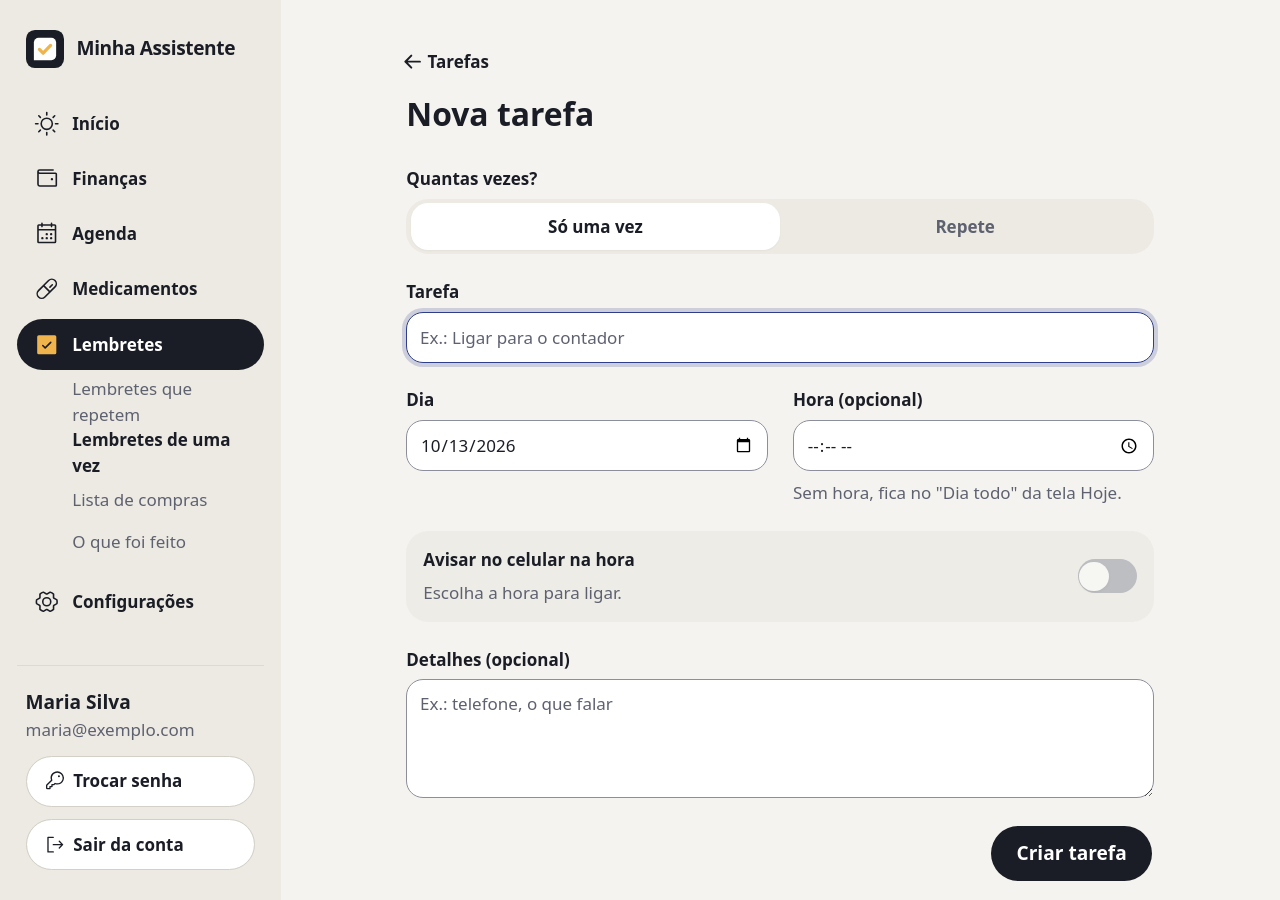
it: Tarefas avulsas › formulário: o lembrete só liga com hora; a tarefa aparece na tela Hoje e o ✓ de lá conclui
The width and height of the screenshot is (1280, 900).
Type "Ligar para o contador" into the field labelled "Tarefa" at x=780, y=337, box [406,312,1154,363]
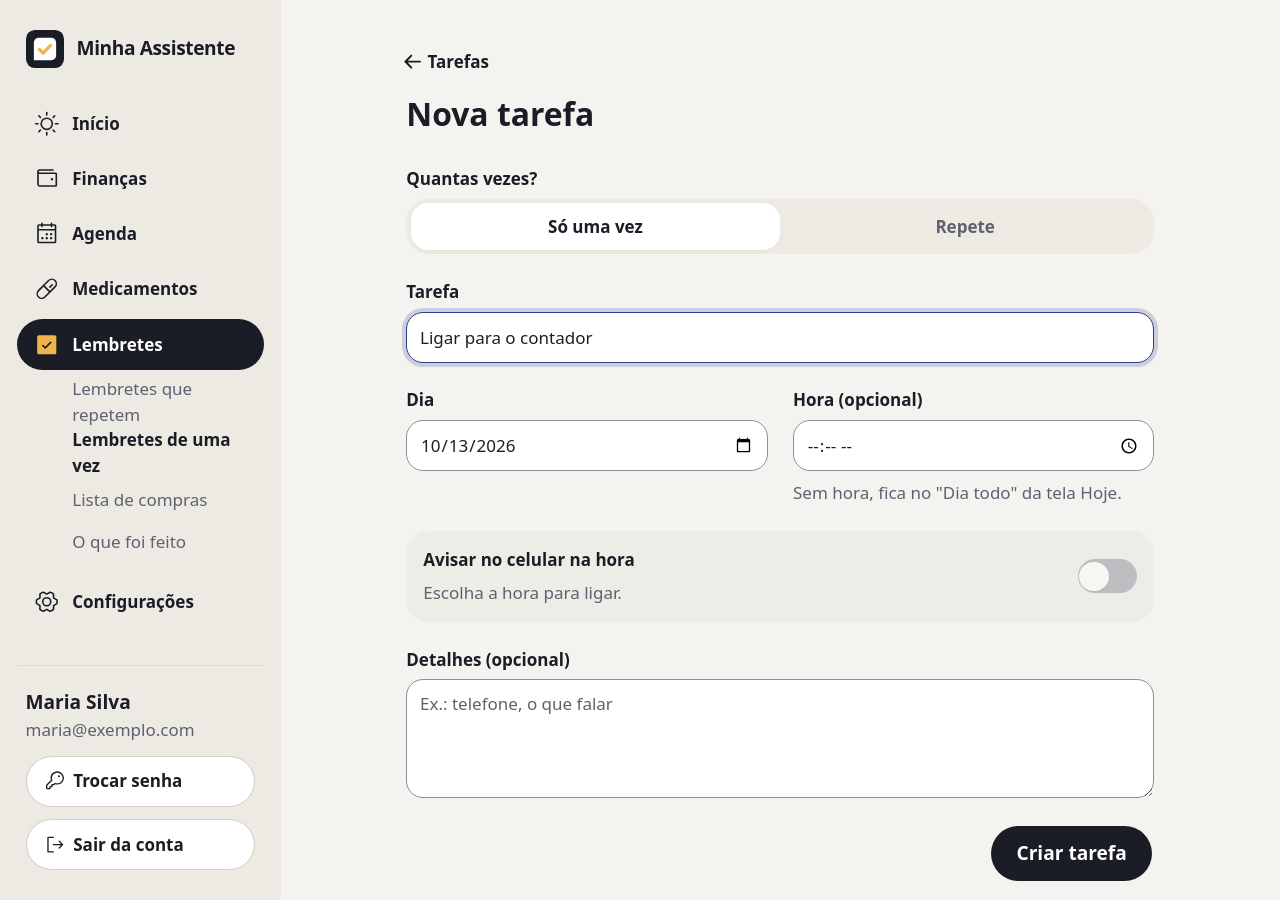
Expected: the switch named "Avisar no celular" is disabled, [1078,559,1137,593]
Type "11:30" into the time field labelled "Hora (opcional)" at x=974, y=446, box [793,420,1154,471]
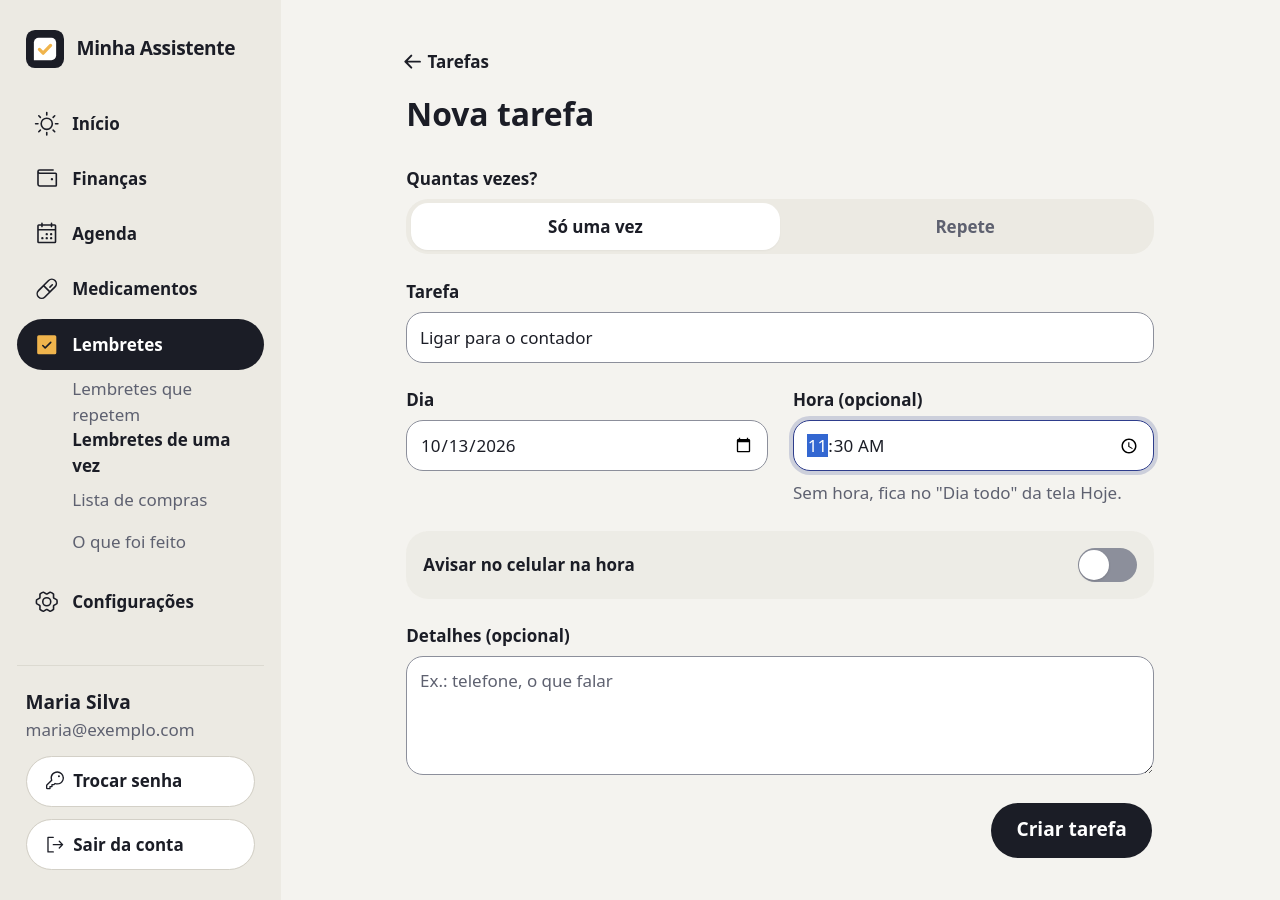
Expected: the switch named "Avisar no celular" is enabled
Click the switch named "Avisar no celular" at x=1108, y=565, box [1078,548,1137,582]
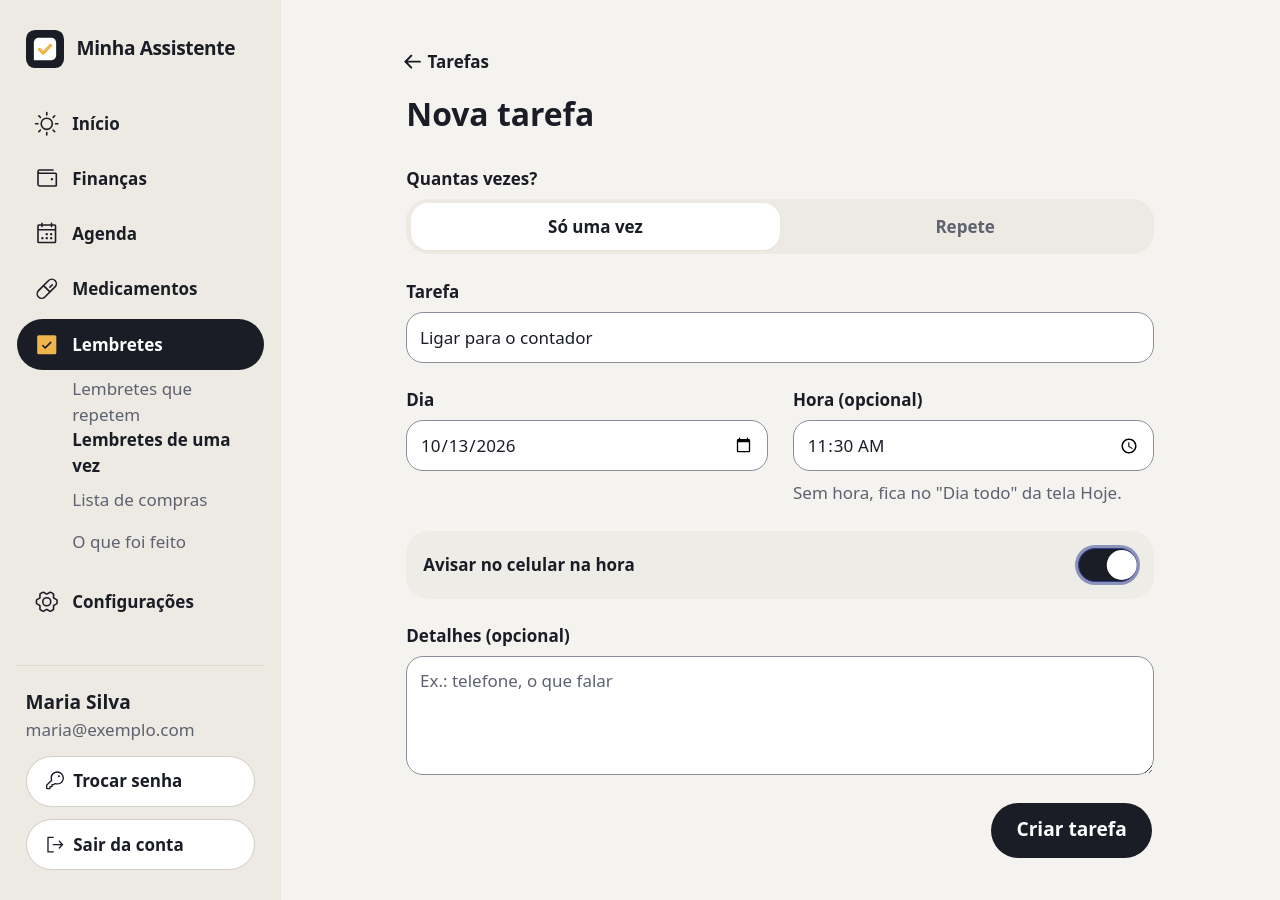
Click the button "Criar tarefa" at x=1072, y=830, box [989,801,1154,860]
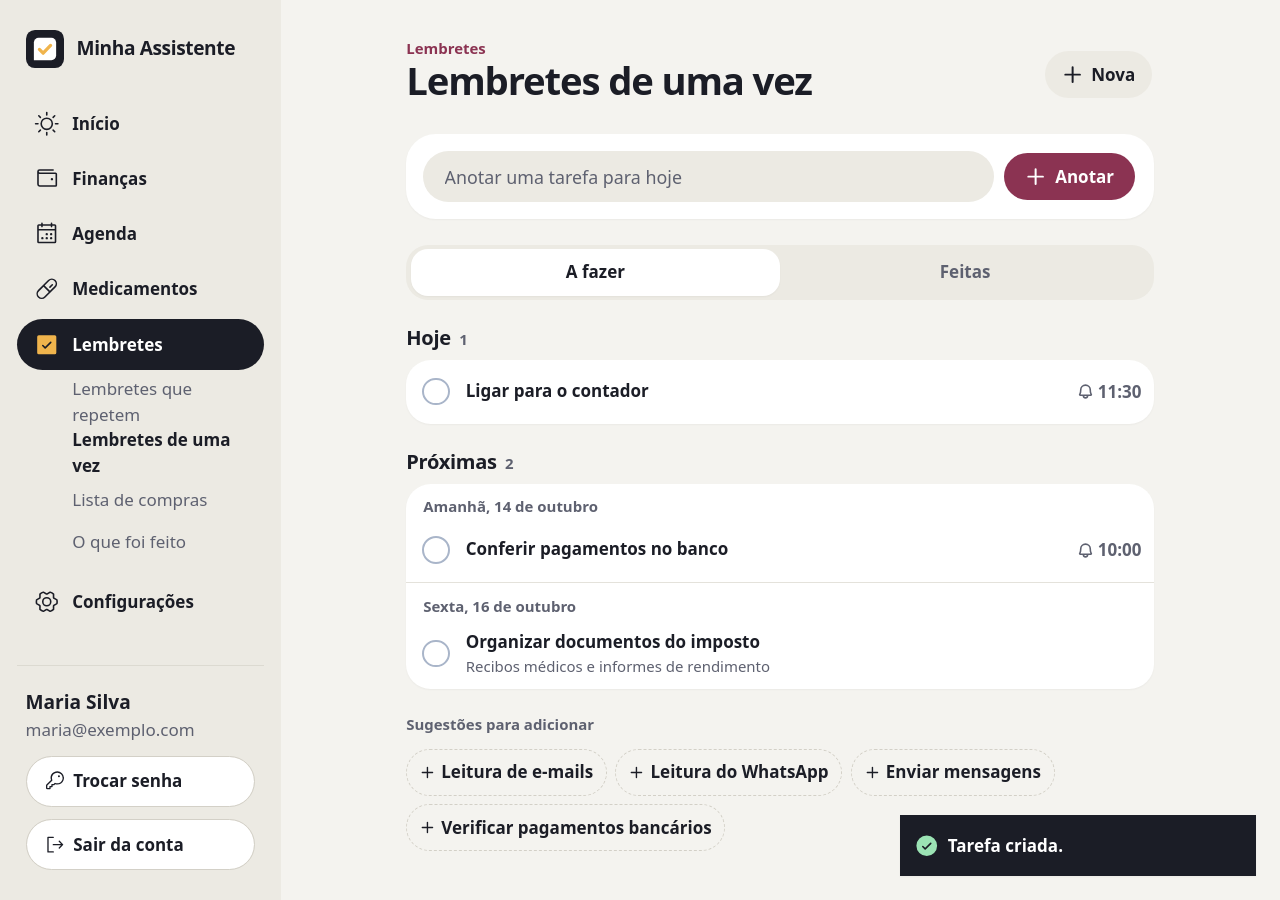
Expected: the element "Hoje" is shown, [406,325,1154,424]
